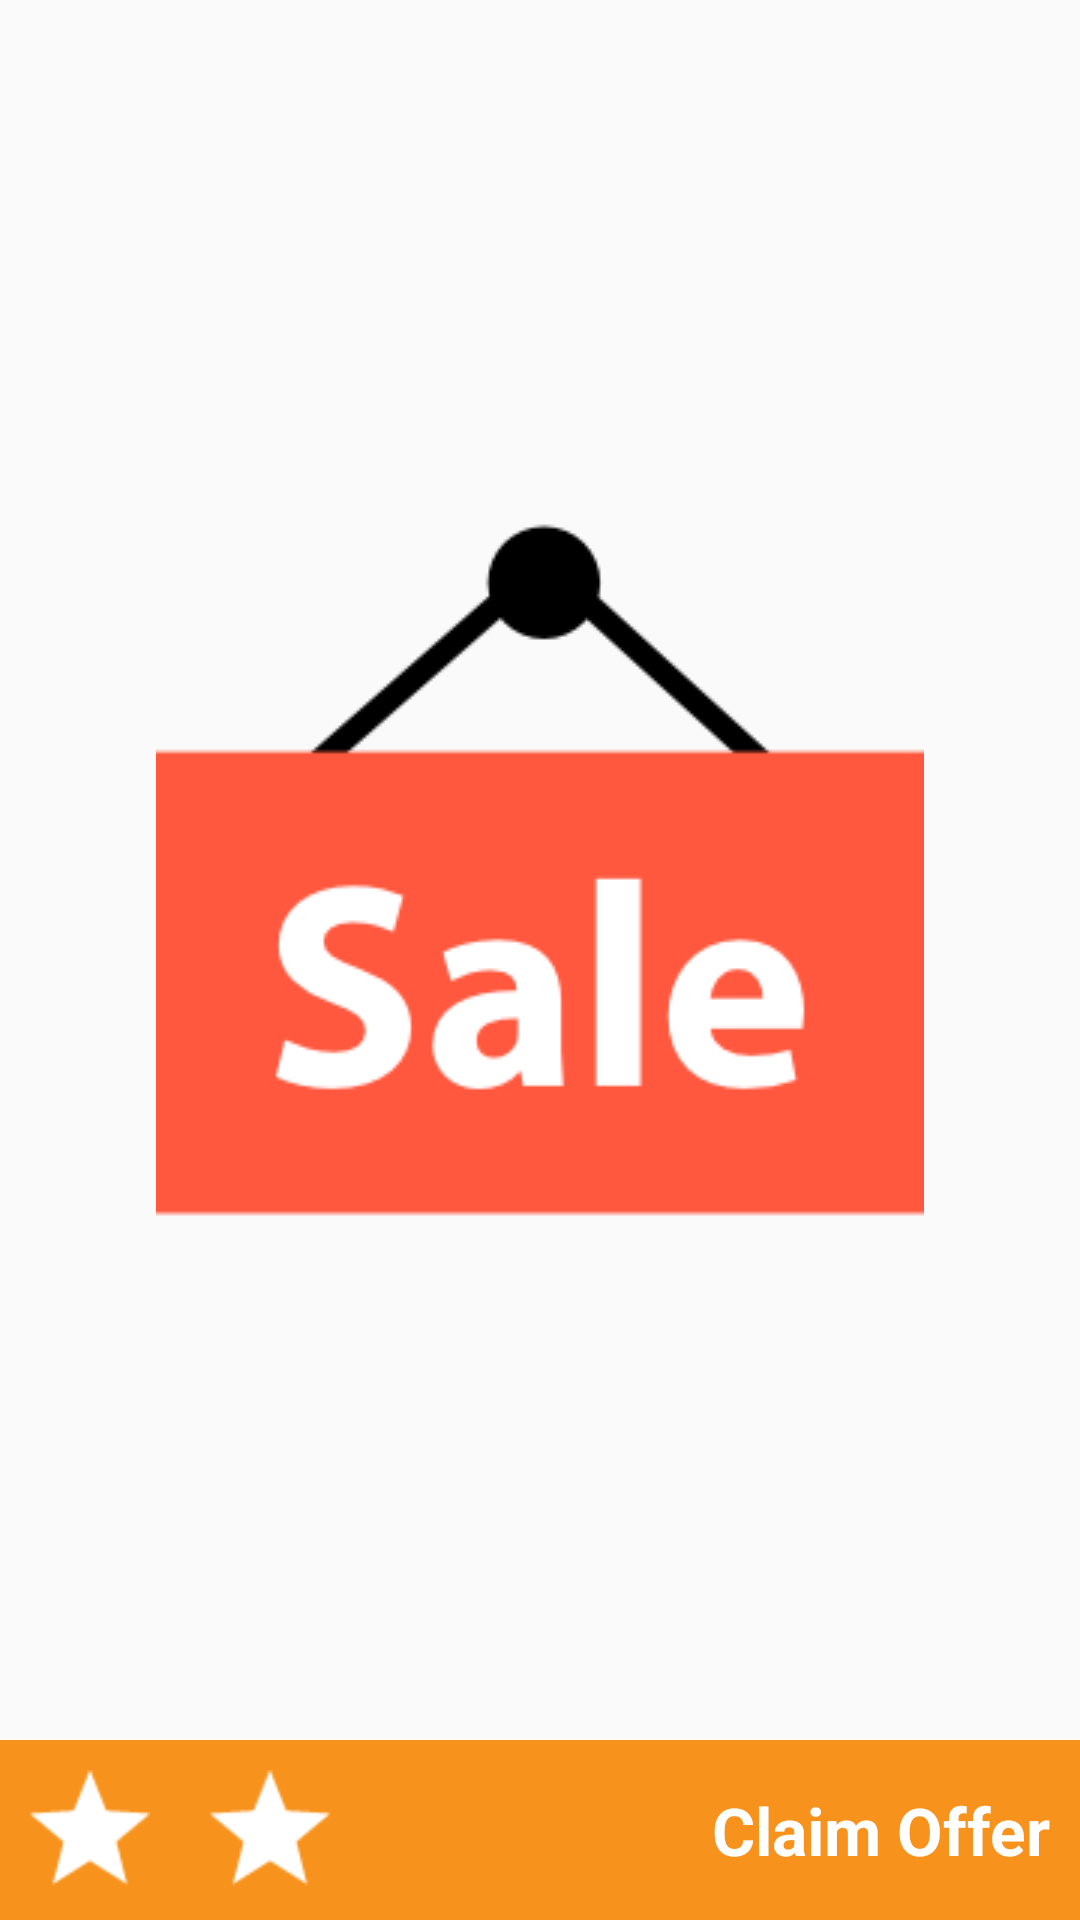

Locate icon controls on the screen. Image size 1080px x 1920px, boxes as detection(x1, y1, x2, y2).
favourite: detection(30, 1770, 150, 1885), detection(210, 1770, 330, 1885)
